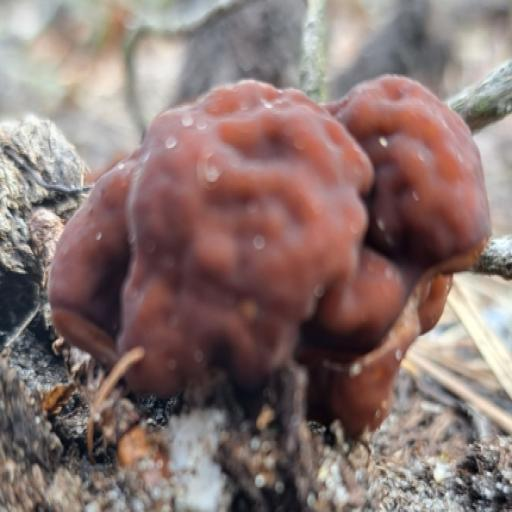False Morel: (23, 0, 512, 503)
